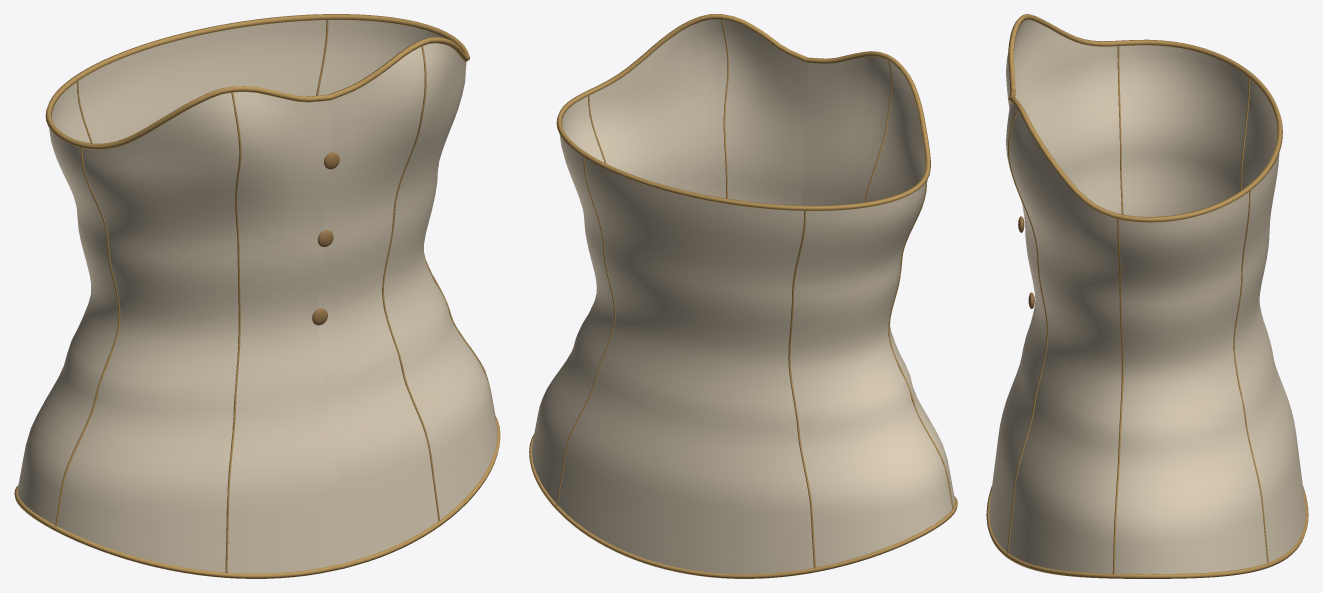
Rendered from korset.glb.
3 renders of one model, left to right at view 1: azimuth 30°, elevation 25°; view 2: azimuth 150°, elevation 25°; view 3: azimuth 270°, elevation 25°, orthographic. The views are drawn at different scales.
Visible parts, largest first — view 1: body.sweetheart-bodice, trim.sweetheart-binding, trim.lower-binding, trim.princess-seam--0.48, trim.princess-seam-0.48, trim.princess-seam--1.35; view 2: body.sweetheart-bodice, trim.sweetheart-binding, trim.lower-binding, trim.princess-seam--2.45, trim.princess-seam-2.45, trim.princess-seam--1.35; view 3: body.sweetheart-bodice, trim.sweetheart-binding, trim.lower-binding, trim.princess-seam-1.35, trim.princess-seam-0.48, trim.princess-seam-2.45.
Boxes of the visible parts, x1,y1,x2,y2 form: body.sweetheart-bodice: (17,20,497,573); trim.sweetheart-binding: (45,14,469,149); trim.lower-binding: (14,416,500,578); trim.princess-seam--0.48: (225,92,241,573); trim.princess-seam-0.48: (382,45,440,521); trim.princess-seam--1.35: (55,147,120,526); body.sweetheart-bodice: (531,19,955,574); trim.sweetheart-binding: (556,14,930,211); trim.lower-binding: (529,434,957,578); trim.princess-seam--2.45: (788,211,815,568); trim.princess-seam-2.45: (556,157,615,505); trim.princess-seam--1.35: (888,181,953,509); body.sweetheart-bodice: (989,19,1305,574); trim.sweetheart-binding: (1008,14,1282,222); trim.lower-binding: (986,485,1308,578); trim.princess-seam-1.35: (1112,219,1123,574); trim.princess-seam-0.48: (1007,109,1048,553); trim.princess-seam-2.45: (1233,191,1268,563).
Size of the model in its own units: 0.5186 by 0.5389 by 0.345.
